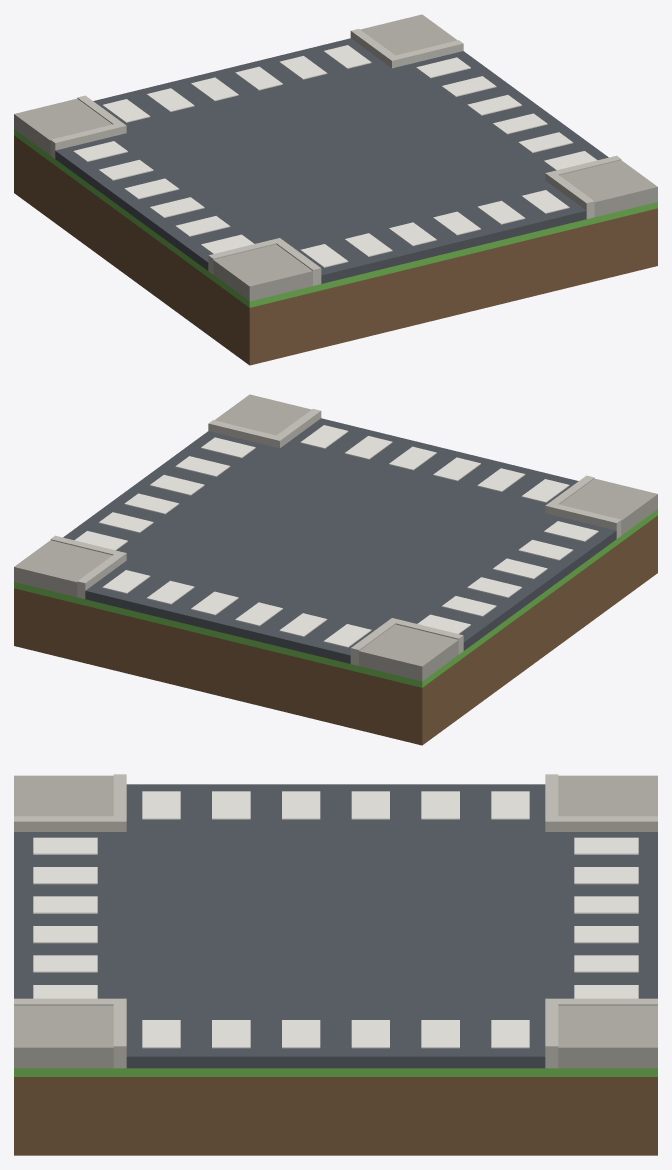
The model's file is asfalto_cruzamento.glb.
3 views of the same model, one above another, from view 1: azimuth 30°, elevation 25°; view 2: azimuth 150°, elevation 25°; view 3: azimuth 270°, elevation 25° (orthographic). The views are drawn at different scales.
Parts seen in each view (by area): view 1: corpo; view 2: corpo; view 3: corpo.
Part boxes in pixels (<box>): corpo: <box>14,14,657,365</box>; corpo: <box>14,394,657,745</box>; corpo: <box>14,774,657,1155</box>.
Bounding box in the file's own units: 2 × 0.375 × 2.
